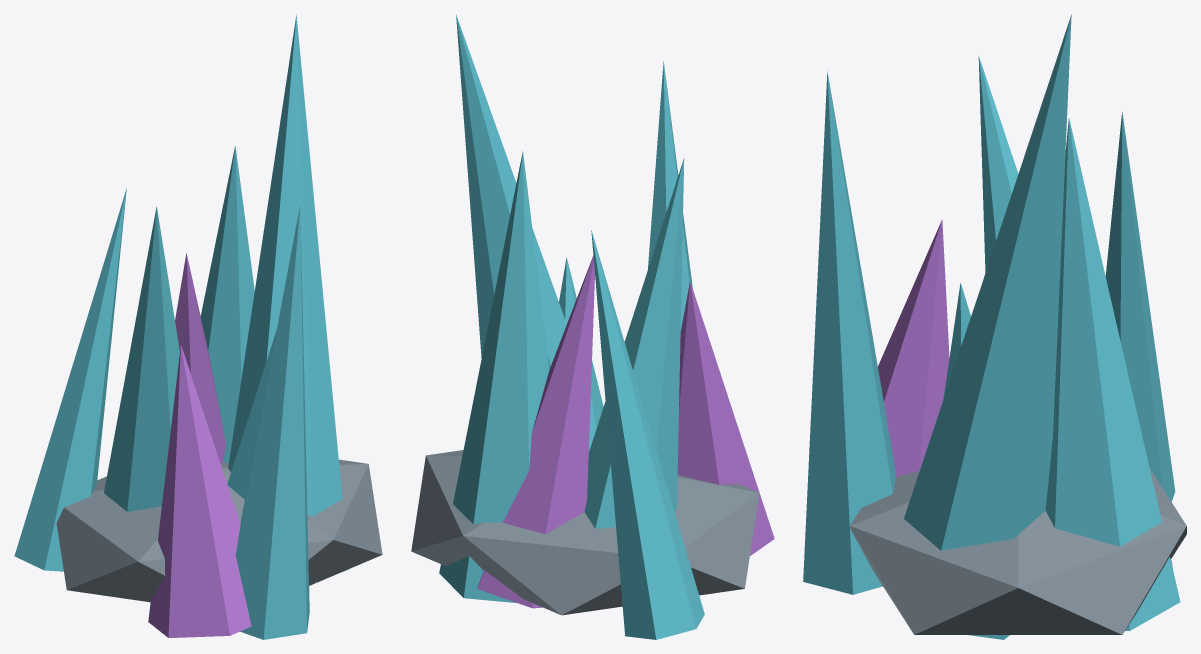
File: Crystal_04_LOD0.fbx
3 renders of one model, left to right at view 1: azimuth 30°, elevation 25°; view 2: azimuth 150°, elevation 25°; view 3: azimuth 270°, elevation 25°, orthographic. The views are drawn at different scales.
Visible parts, largest first — view 1: Crystal_04_LOD0; view 2: Crystal_04_LOD0; view 3: Crystal_04_LOD0.
Boxes of the visible parts, bbox=[...] form: Crystal_04_LOD0: bbox=[14, 14, 382, 639]; Crystal_04_LOD0: bbox=[411, 14, 774, 639]; Crystal_04_LOD0: bbox=[803, 14, 1186, 639].
Bounding box in the file's own units: 163 × 271 × 145.
